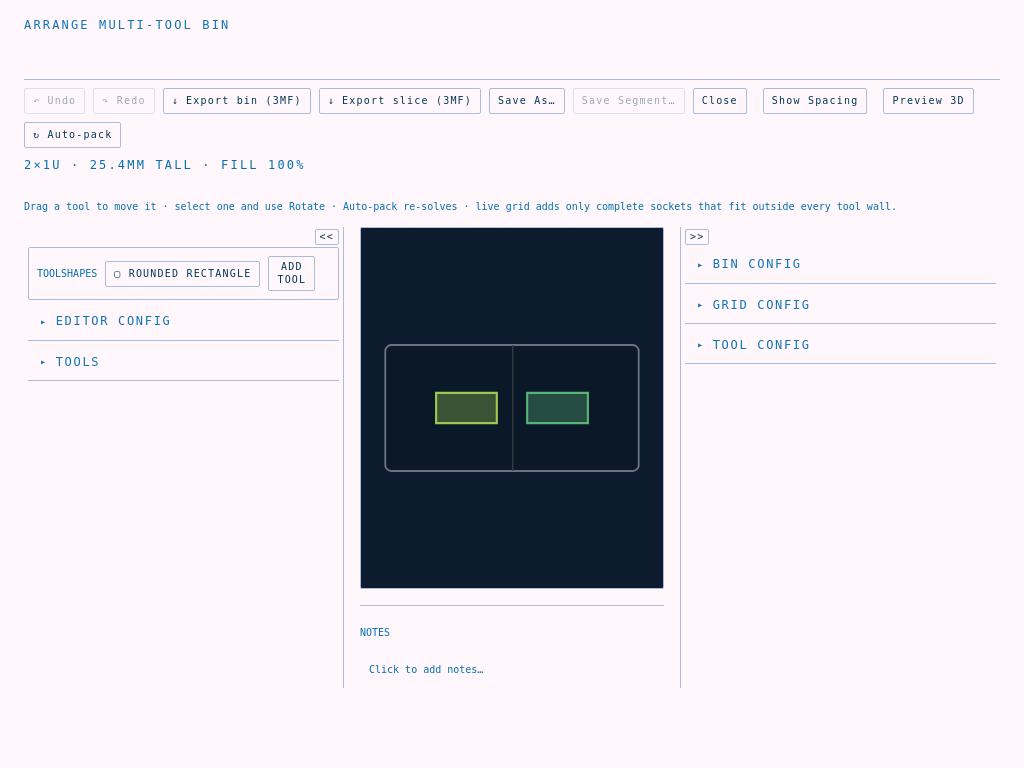
Test: CombineEditor notes › saves immediately on blur
The image size is (1024, 768).
Click the button with aria-label "Bin notes — click to edit". click: [426, 670]
box: [369,664,483,675]
(page scrolled)
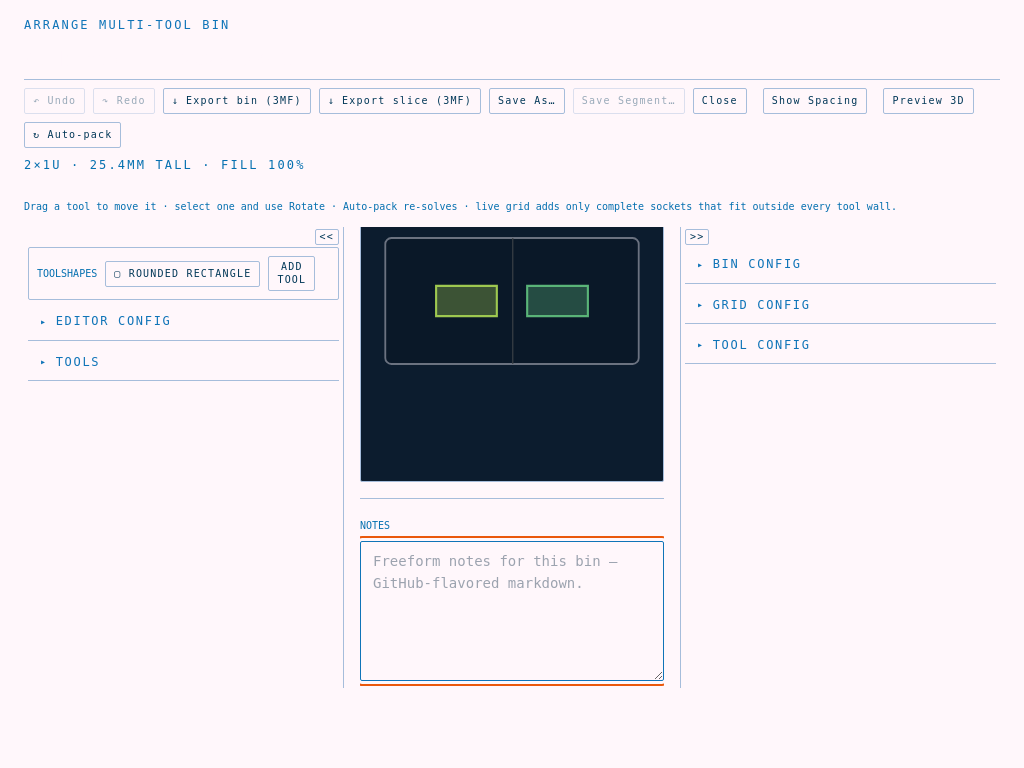
Type "fits the long screwdrivers" into the text box named "Bin notes". click: [512, 611]
box: [360,541,664,681]
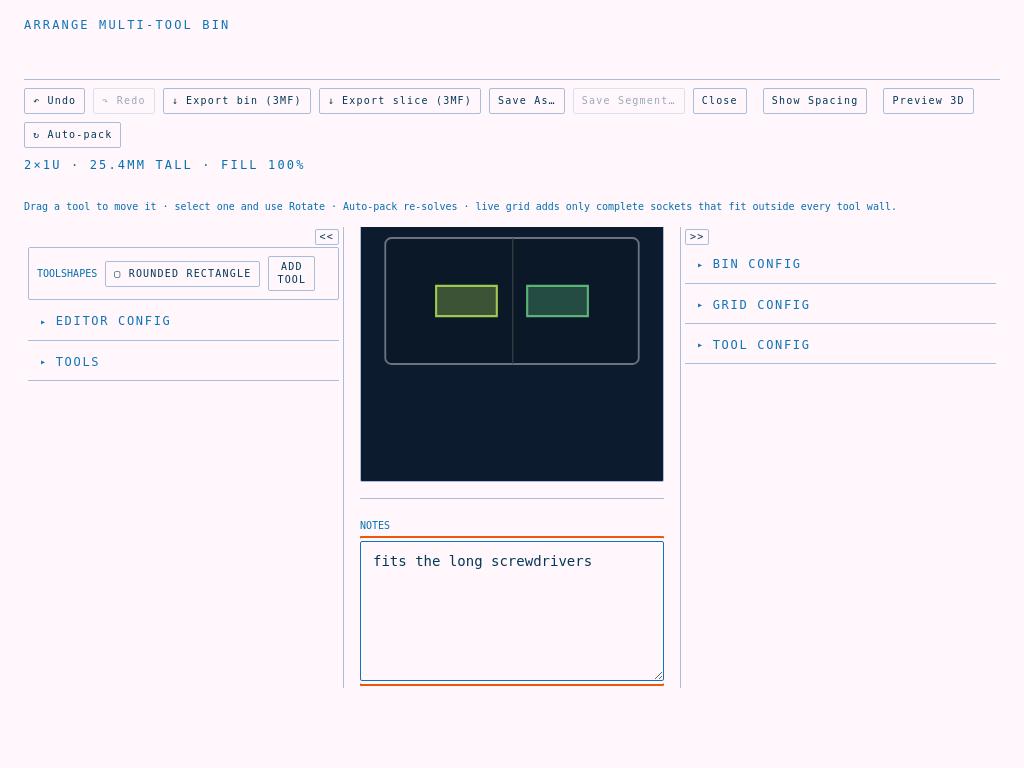
Leave the text box named "Bin notes", box [360,541,664,681]
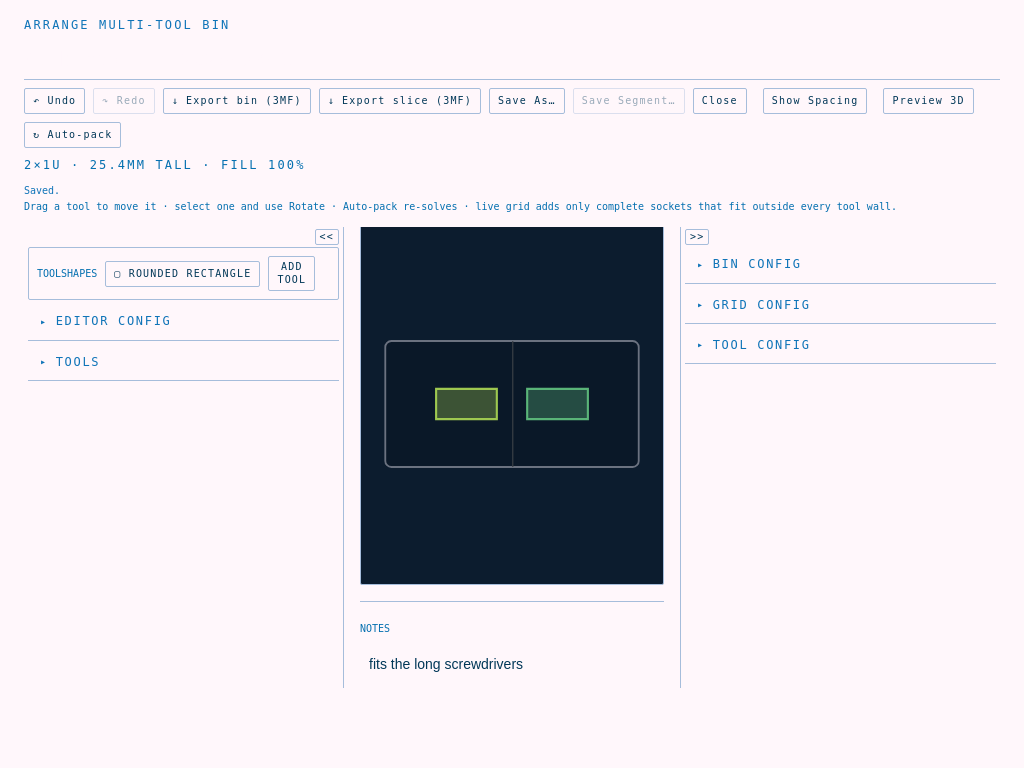
Now the text "fits the long screwdrivers" is shown, box [369,656,523,672]
